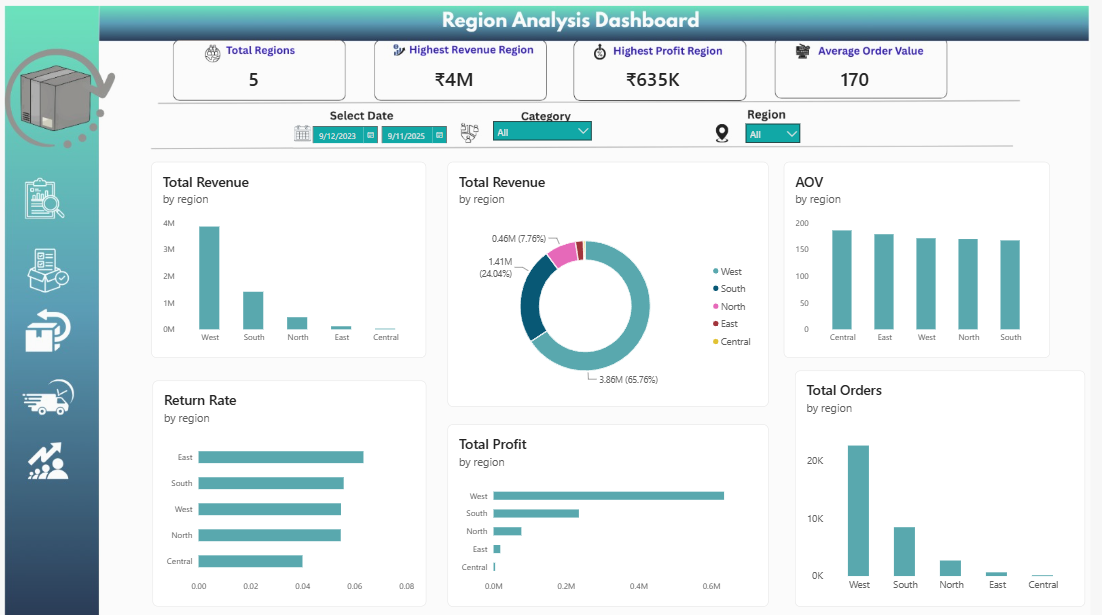

The dashboard page shown, as its layout file describes it:
{"tool":"powerbi","page":{"name":"Regional Analysis","canvas":[1920,1080],"ordinal":4},"visuals":[{"type":"cardVisual","fields":{"Data":["orders.Total Regions"]},"box":[508,169.3,44.2,42.3],"z":0},{"type":"slicer","fields":{"Values":["customers.region"]},"box":[1247.9,254,77.3,35],"z":1},{"type":"slicer","fields":{"Values":["Date_Table.Date"]},"box":[620.2,250.3,237.4,36.8],"z":3},{"type":"slicer","fields":{"Values":["customers.Age Group"]},"box":[918.4,250.3,112.3,44.2],"z":4},{"type":"cardVisual","fields":{"Data":["orders.Highest Revenue Region Revenue"]},"box":[782.2,169.3,93.9,42.3],"z":5},{"type":"cardVisual","fields":{"Data":["orders.Highest Profit Region Profit"]},"box":[1063.8,169.3,119.6,42.3],"z":6},{"type":"cardVisual","fields":{"Data":["orders.AOV"]},"box":[1380.4,169.3,77.3,42.3],"z":7},{"type":"clusteredColumnChart","fields":{"Category":["customers.region"],"Y":["orders.Total Revenue"]},"box":[377.3,314.7,404.9,289],"z":8},{"type":"clusteredColumnChart","fields":{"Category":["customers.region"],"Y":["orders.Total Orders"]},"box":[1325.2,622.1,427,347.9],"z":9},{"type":"clusteredColumnChart","fields":{"Y":["orders.AOV"],"Category":["customers.region"]},"box":[1308.6,314.7,392,289],"z":10},{"type":"clusteredBarChart","fields":{"Category":["customers.region"],"Y":["returns.Return Rate"]},"box":[379.1,636.8,403.1,333.1],"z":11},{"type":"clusteredBarChart","fields":{"Category":["customers.region"],"Y":["orders.Total Profit"]},"box":[813.5,701.2,473,268.7],"z":12},{"type":"donutChart","fields":{"Y":["orders.Total Revenue"],"Category":["customers.region"]},"box":[813.5,314.7,473,360.7],"z":13}]}

Visuals, with their boxes on the page's 1920x1080 design canvas (x1, y1, x2, y2). These are canvas units, not pixel positions in the 1102x615 screenshot, which may show the page scaled, cropped or inside an application window:
cardVisual - orders.Total Regions: 508:169:552:212
slicer - customers.region: 1248:254:1325:289
slicer - Date_Table.Date: 620:250:858:287
slicer - customers.Age Group: 918:250:1031:294
cardVisual - orders.Highest Revenue Region Revenue: 782:169:876:212
cardVisual - orders.Highest Profit Region Profit: 1064:169:1183:212
cardVisual - orders.AOV: 1380:169:1458:212
clusteredColumnChart - customers.region x orders.Total Revenue: 377:315:782:604
clusteredColumnChart - customers.region x orders.Total Orders: 1325:622:1752:970
clusteredColumnChart - orders.AOV x customers.region: 1309:315:1701:604
clusteredBarChart - customers.region x returns.Return Rate: 379:637:782:970
clusteredBarChart - customers.region x orders.Total Profit: 814:701:1286:970
donutChart - orders.Total Revenue x customers.region: 814:315:1286:675
